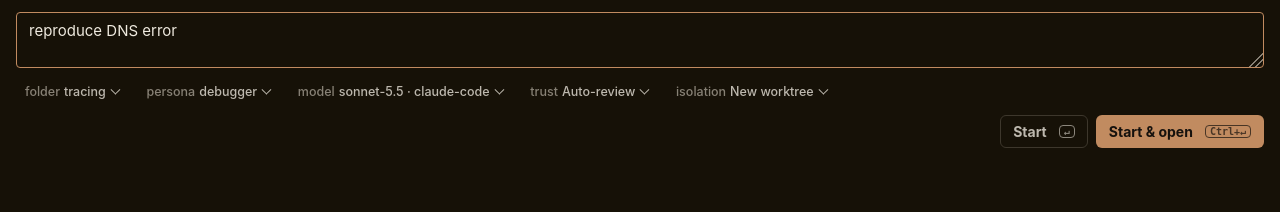
Test: Enter vs ⌘Enter › a refused ⌘Enter stays on the card with the reason
Click the button "Start & open Ctrl+↵": (1180, 132) left=1096, top=115, right=1264, bottom=148
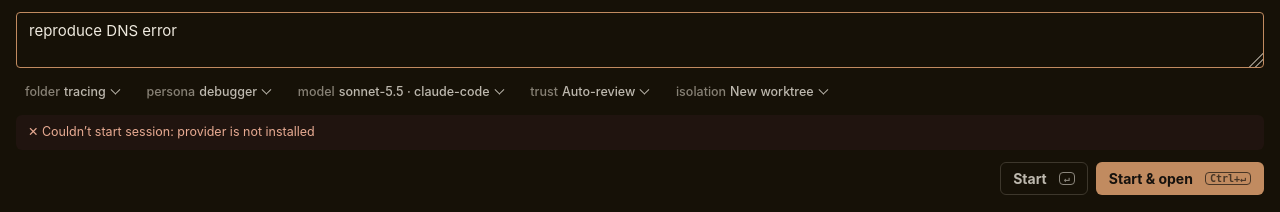
Now the message shows "provider is not installed", box left=177, top=124, right=315, bottom=139
